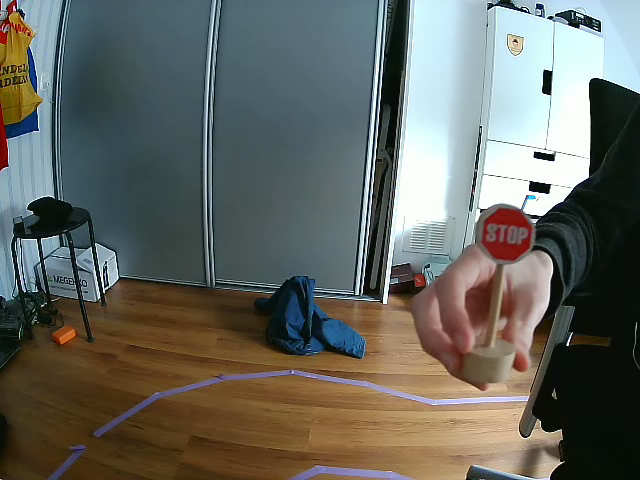stopbord: (479, 207, 534, 264)
